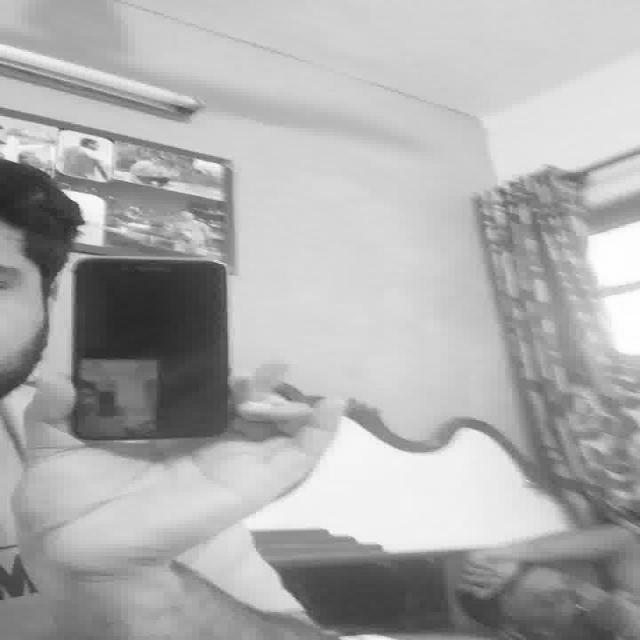fake: (70, 255, 231, 449)
